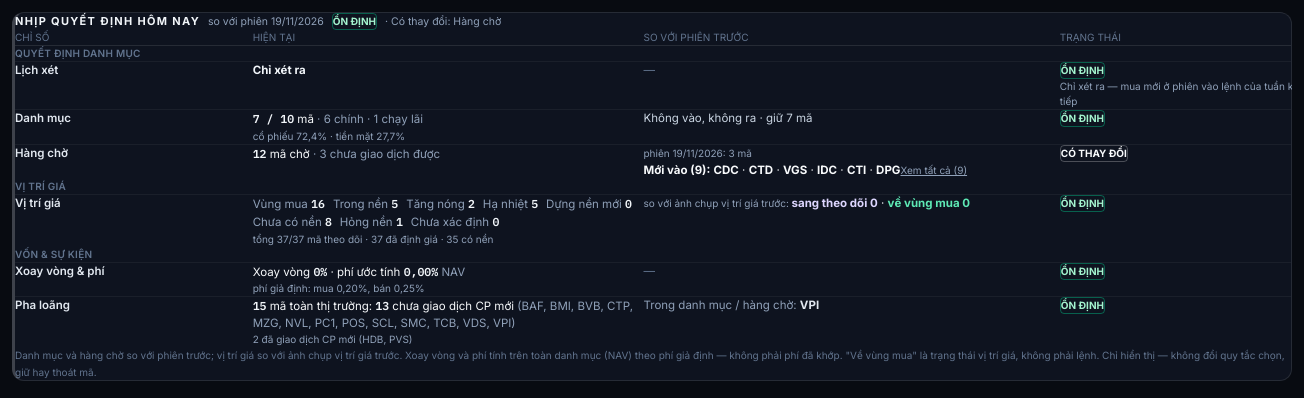
Panel Nhịp quyết định — dữ liệu 20/11 › danh sách mã dài (> 6) rút gọn, có 'Xem tất cả (N)'; bấm mã mở Hồ sơ
The image size is (1304, 398).
Later steps or results of the test are not shown.
What coordinates should you click on to do the following:
click the button "Xem tất cả (9)"
I would click on:
 (934, 170)
Its box is [900, 163, 967, 178].
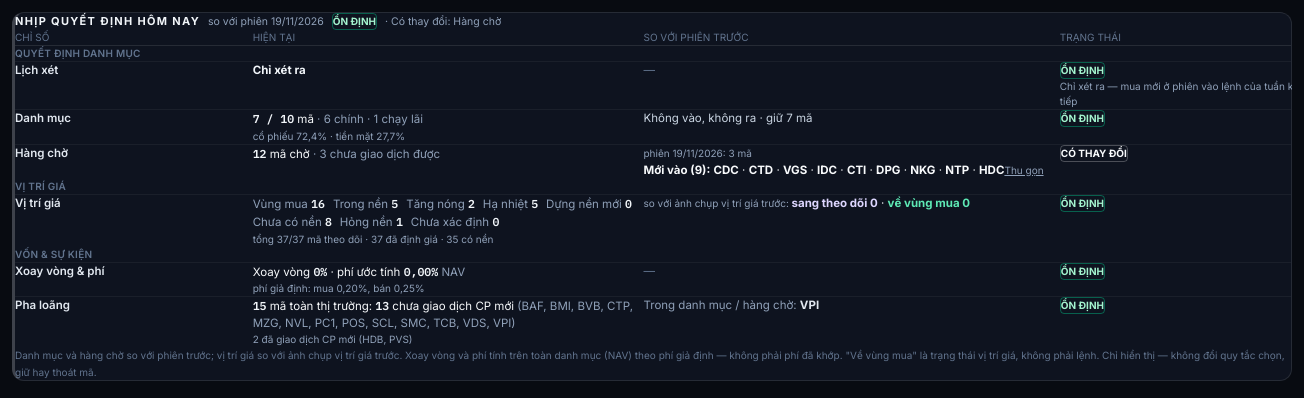
Check: the button "Thu gọn" is shown, box [1004, 163, 1044, 178]
